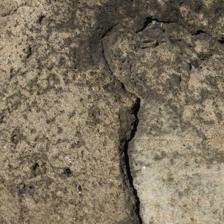Crack: (50, 8, 174, 215)
